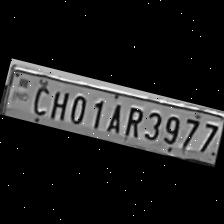0: (63, 88, 90, 124)
1: (83, 93, 108, 129)
3: (139, 105, 164, 141)
7: (176, 114, 201, 150), (194, 118, 218, 154)
9: (158, 110, 182, 145)
A: (100, 97, 126, 134)
C: (25, 78, 52, 116)
H: (43, 83, 72, 122)
R: (119, 100, 146, 138)
